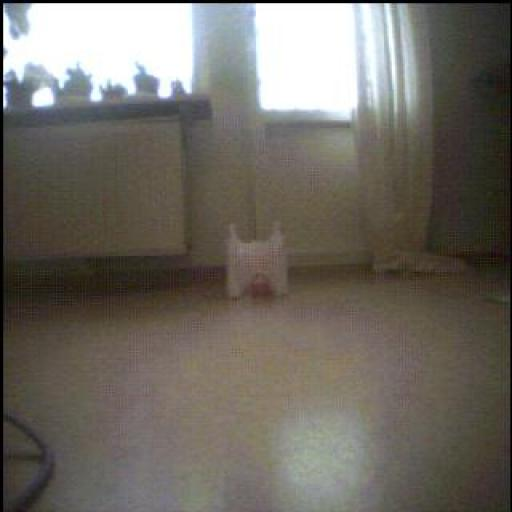Basket: (247, 274, 274, 300)
